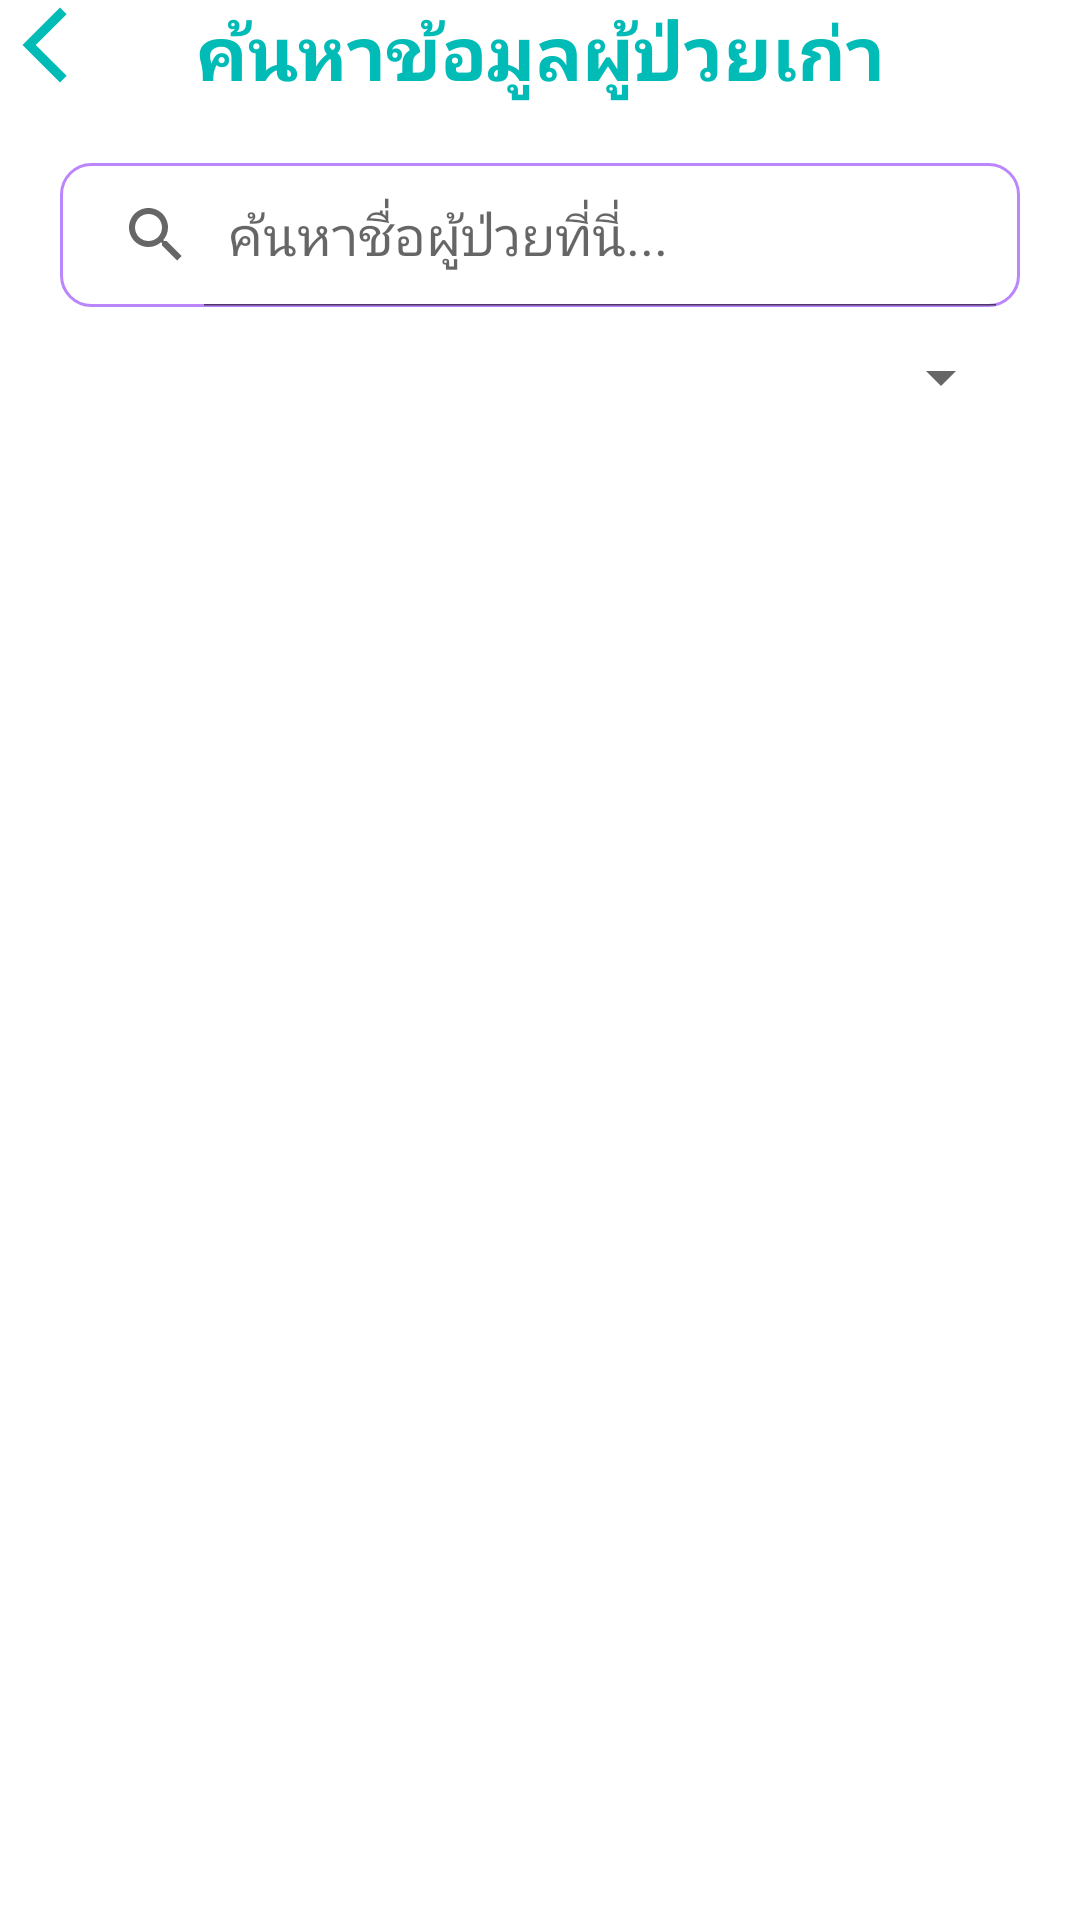

Named icons in this screenshot (1080×1920) and their bounding boxes, [x1, y1, x2, y2]:
arrow back: [22, 7, 67, 83]
